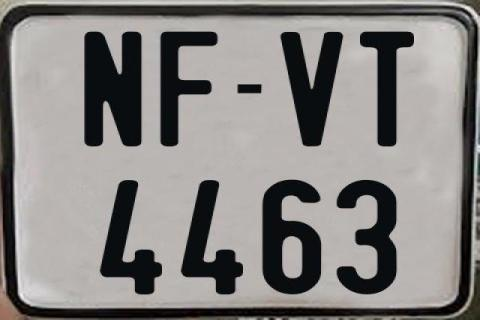0: (336, 178, 402, 298), (180, 179, 246, 295), (97, 177, 159, 293), (259, 177, 318, 293)
F: (160, 31, 220, 150)
N: (82, 29, 146, 144)
T: (359, 29, 418, 147)
V: (280, 31, 348, 146)
